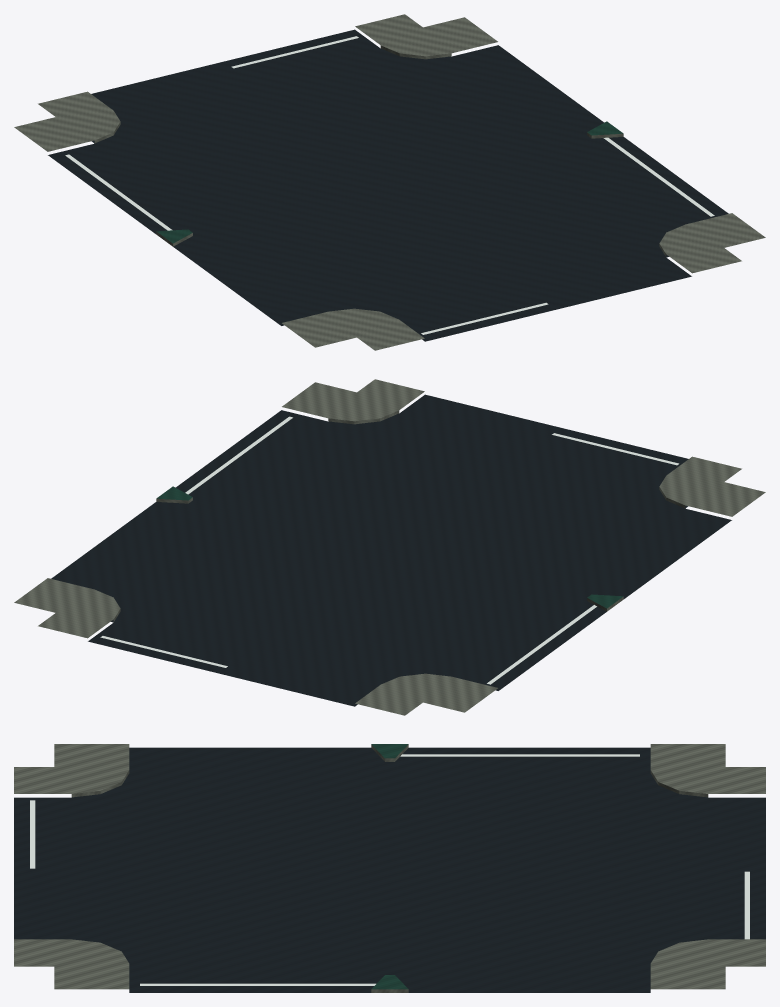
The model's file is junc_cross_6x4_LOD2.glb.
The picture shows the model from 3 angles, top to bottom: view 1: azimuth 30°, elevation 25°; view 2: azimuth 150°, elevation 25°; view 3: azimuth 270°, elevation 25°; orthographic projection. The views are drawn at different scales.
Parts seen in each view (by area): view 1: junc_cross_6x4__surface.002, junc_cross_6x4__rounded_corner_curb.002, junc_cross_6x4__stop_line_paint.002, junc_cross_6x4__median_ends.002; view 2: junc_cross_6x4__surface.002, junc_cross_6x4__rounded_corner_curb.002, junc_cross_6x4__stop_line_paint.002, junc_cross_6x4__median_ends.002; view 3: junc_cross_6x4__surface.002, junc_cross_6x4__rounded_corner_curb.002, junc_cross_6x4__stop_line_paint.002, junc_cross_6x4__median_ends.002.
Part boxes in pixels (x1,y1,x2,y2): junc_cross_6x4__surface.002: (48,29,728,341); junc_cross_6x4__rounded_corner_curb.002: (14,14,765,350); junc_cross_6x4__stop_line_paint.002: (65,36,714,334); junc_cross_6x4__median_ends.002: (156,121,623,246); junc_cross_6x4__surface.002: (51,394,731,706); junc_cross_6x4__rounded_corner_curb.002: (14,379,765,715); junc_cross_6x4__stop_line_paint.002: (100,416,678,684); junc_cross_6x4__median_ends.002: (156,486,623,611); junc_cross_6x4__surface.002: (14,747,765,992); junc_cross_6x4__rounded_corner_curb.002: (14,744,765,989); junc_cross_6x4__stop_line_paint.002: (30,754,749,985); junc_cross_6x4__median_ends.002: (371,744,408,992).
Bounding box in the file's own units: 21.6 × 0.145 × 28.
Materials: 5 (4 with a texture image).
